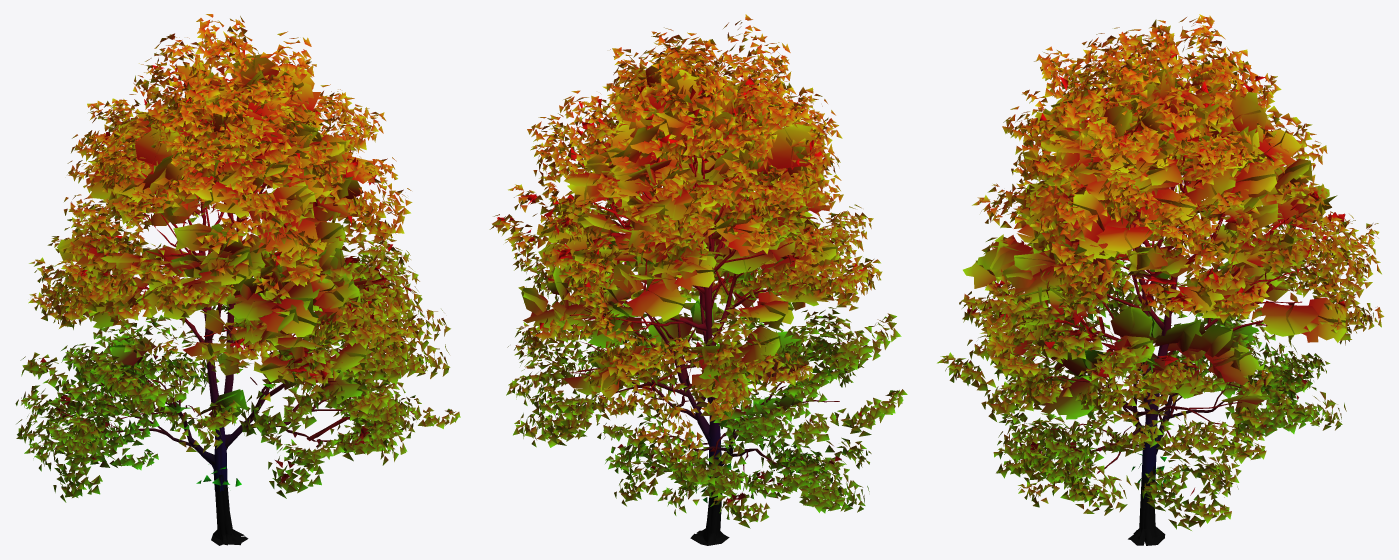
Rendered from SM_EuropeanHornbeam_Field_01.fbx.
3 renders of one model, left to right at view 1: azimuth 30°, elevation 25°; view 2: azimuth 150°, elevation 25°; view 3: azimuth 270°, elevation 25°, orthographic. The views are drawn at different scales.
Visible parts, largest first — view 1: SM_EuropeanHornbeam_Field_01; view 2: SM_EuropeanHornbeam_Field_01; view 3: SM_EuropeanHornbeam_Field_01.
Boxes of the visible parts, left/top/right/bottom form: SM_EuropeanHornbeam_Field_01: left=15, top=14, right=460, bottom=545; SM_EuropeanHornbeam_Field_01: left=489, top=14, right=907, bottom=545; SM_EuropeanHornbeam_Field_01: left=937, top=14, right=1384, bottom=545.
Bounding box in the file's own units: 1258 × 1291 × 1662.
